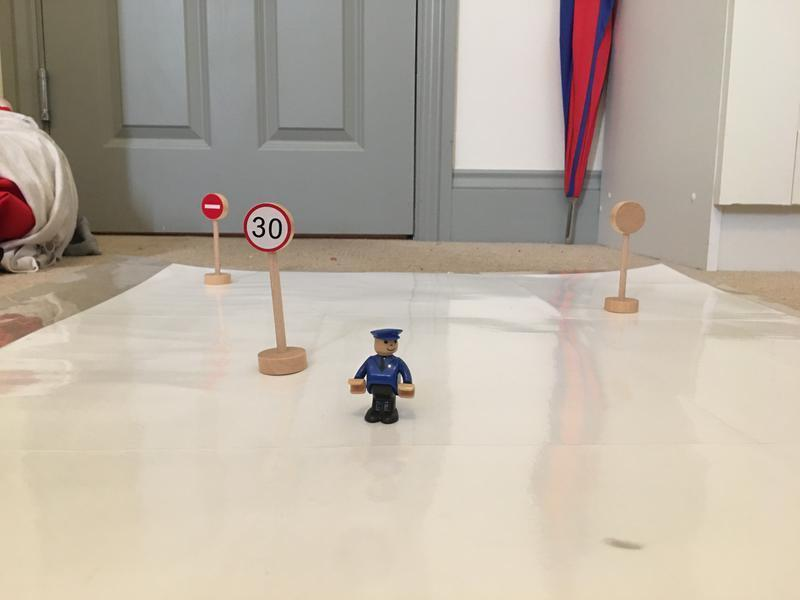Traffic_Sign_30: (243, 203, 292, 253)
Traffic_Sign_No_Entry: (200, 192, 224, 221)
person: (348, 325, 420, 428)
